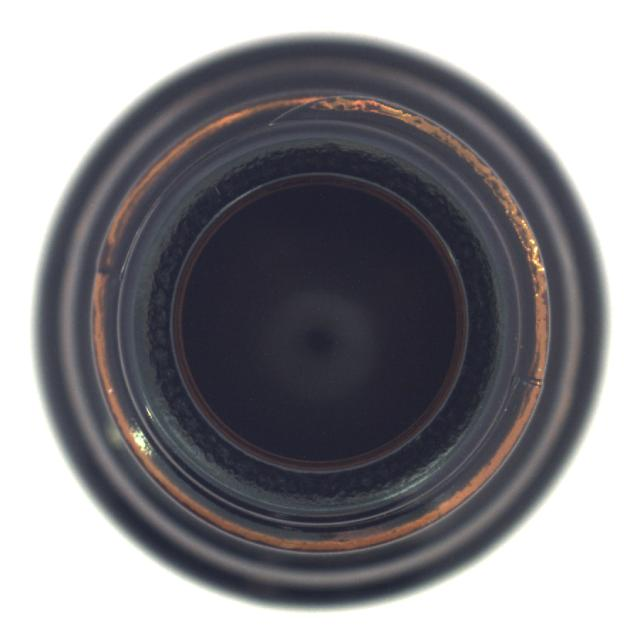bottle-good: (30, 35, 598, 607)
